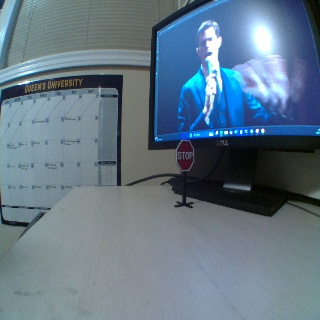sign_stop: (174, 140, 193, 170)
